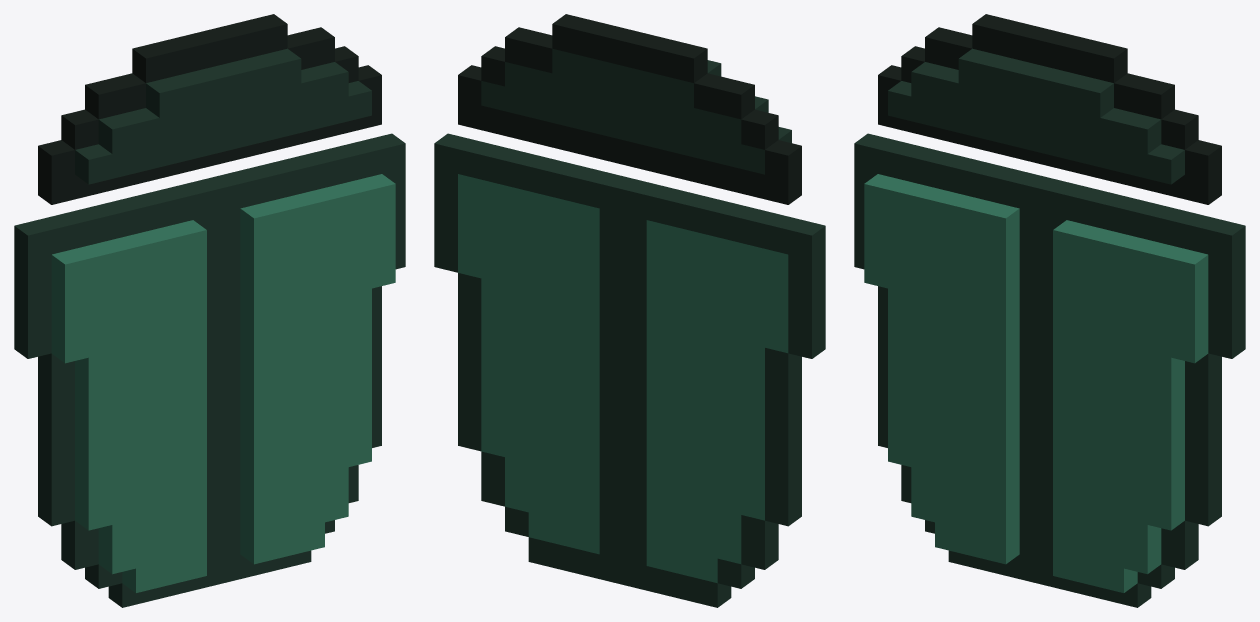
Rendered from BugSymbol.obj.
3 views of the same model, side by side, from view 1: azimuth 30°, elevation 25°; view 2: azimuth 150°, elevation 25°; view 3: azimuth 330°, elevation 25° (orthographic).
Parts seen in each view (by area): view 1: BugSymbol; view 2: BugSymbol; view 3: BugSymbol.
Part boxes in pixels (x1,y1,x2,y2): BugSymbol: (14, 14, 405, 607); BugSymbol: (434, 14, 825, 607); BugSymbol: (854, 14, 1245, 607).
Bounding box in the file's own units: 16 × 22 × 2.
Materials: 1 (1 with a texture image).
